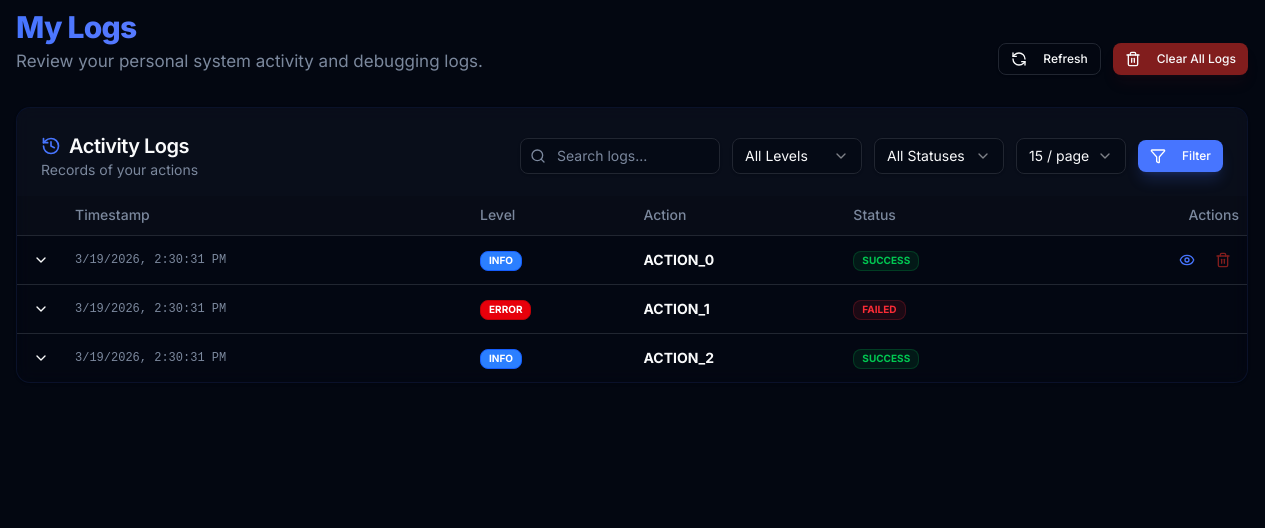
it: MyLogsPage › expands row to show message on click
The width and height of the screenshot is (1265, 528).
Expected: the text "ACTION_0" is shown, [635, 236, 845, 284]
Click the text "ACTION_0" at (632, 260), box [17, 236, 1247, 284]
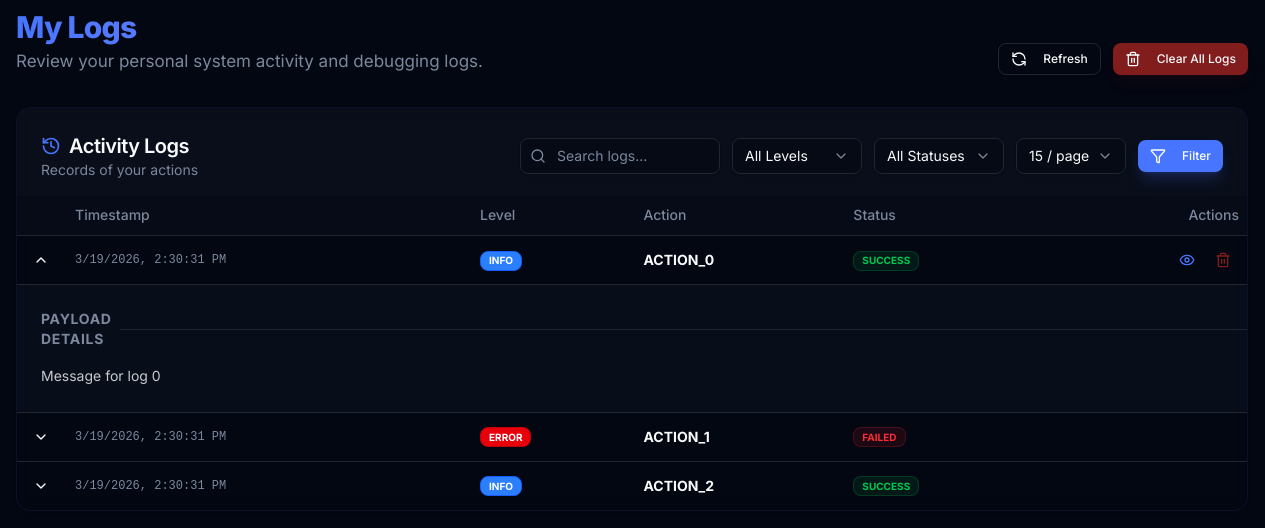
Expected: the text "Message for log 0" is shown, [41, 367, 161, 384]
